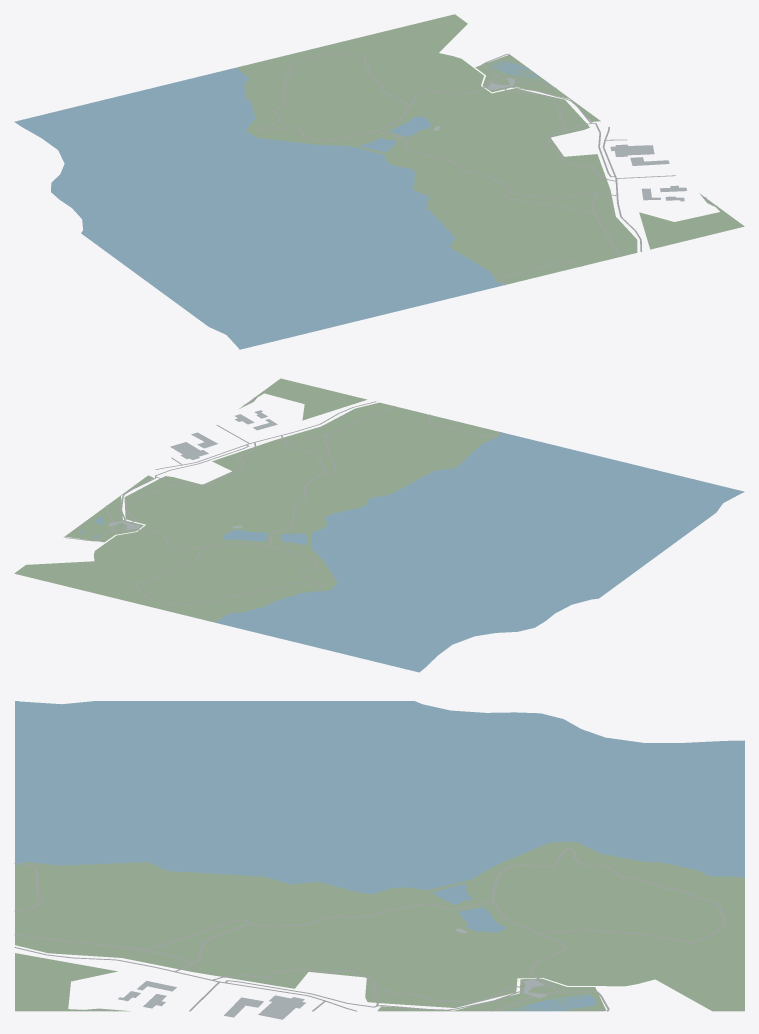
The model's file is -7_8-known-coarse.glb.
3 views of the same model, one above another, from view 1: azimuth 30°, elevation 25°; view 2: azimuth 150°, elevation 25°; view 3: azimuth 270°, elevation 25° (orthographic). The views are drawn at different scales.
Size of the model in its own units: 1028 by 0.15 by 996.
